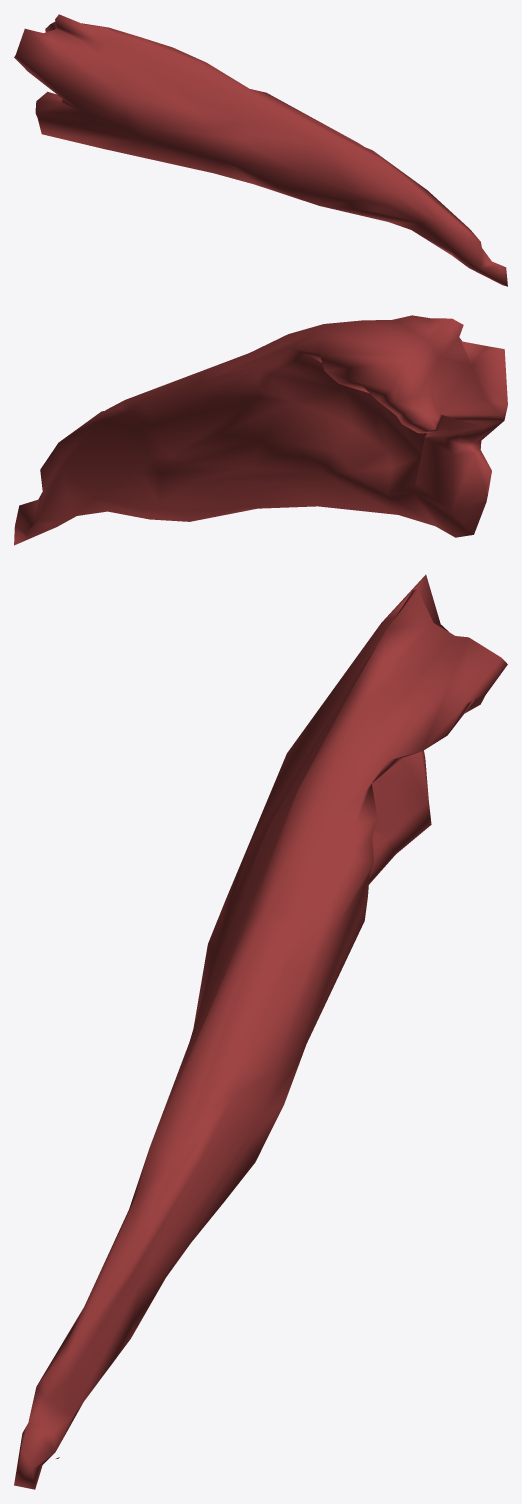
Rendered from oblique-head-of-adductor-pollicis-l.glb.
3 renders of one model, top to bottom at view 1: azimuth 30°, elevation 25°; view 2: azimuth 150°, elevation 25°; view 3: azimuth 270°, elevation 25°, orthographic. The views are drawn at different scales.
Visible parts, largest first — view 1: Oblique head of adductor pollicis.l; view 2: Oblique head of adductor pollicis.l; view 3: Oblique head of adductor pollicis.l.
Boxes of the visible parts, x1,y1,x2,y2 form: Oblique head of adductor pollicis.l: (14, 14, 507, 286); Oblique head of adductor pollicis.l: (14, 315, 507, 545); Oblique head of adductor pollicis.l: (14, 574, 507, 1489).
Bounding box in the file's own units: 0.044 × 0.0311 × 0.0247.
